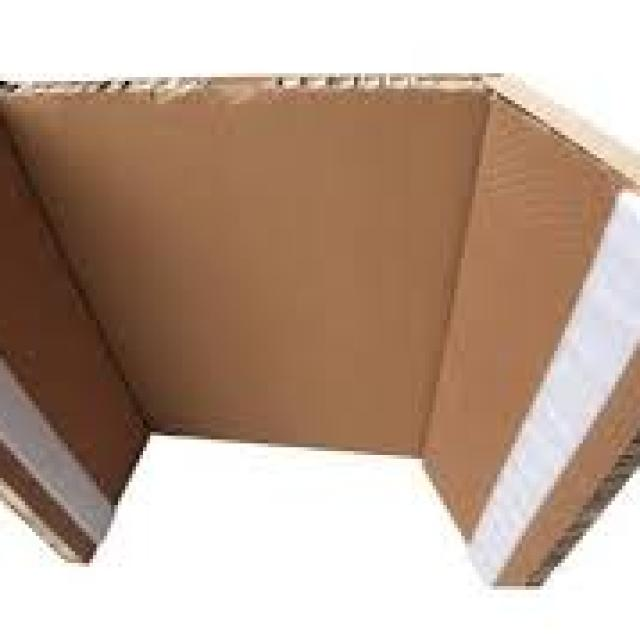organic: (0, 75, 630, 591)
